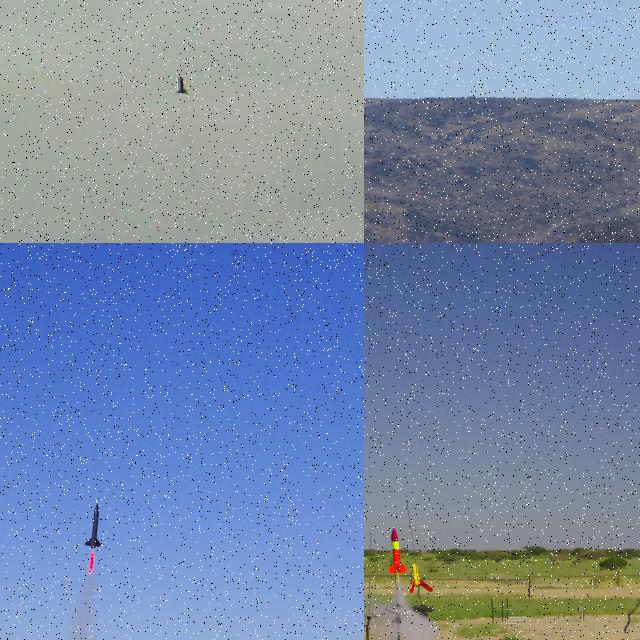Rocket: (388, 528, 408, 574), (84, 502, 102, 549), (409, 563, 434, 594), (175, 74, 190, 96)
